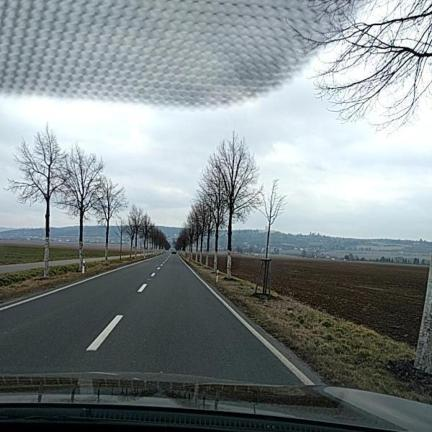Road: (0, 254, 310, 384)
